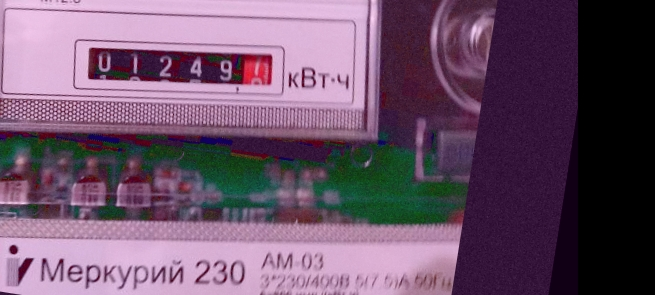0: (92, 45, 115, 73)
1: (124, 49, 142, 76)
2: (153, 51, 177, 80)
4: (186, 50, 208, 80)
7: (247, 52, 265, 78)
9: (215, 55, 236, 82)
screen: (60, 16, 302, 126)
